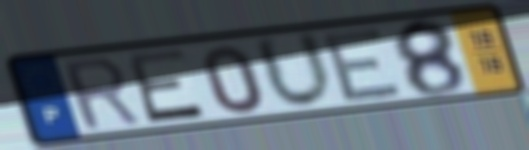0: (198, 41, 268, 116)
8: (389, 15, 472, 99)
E: (320, 24, 407, 105), (122, 46, 209, 126)
R: (57, 53, 146, 134)
U: (249, 28, 338, 112)
